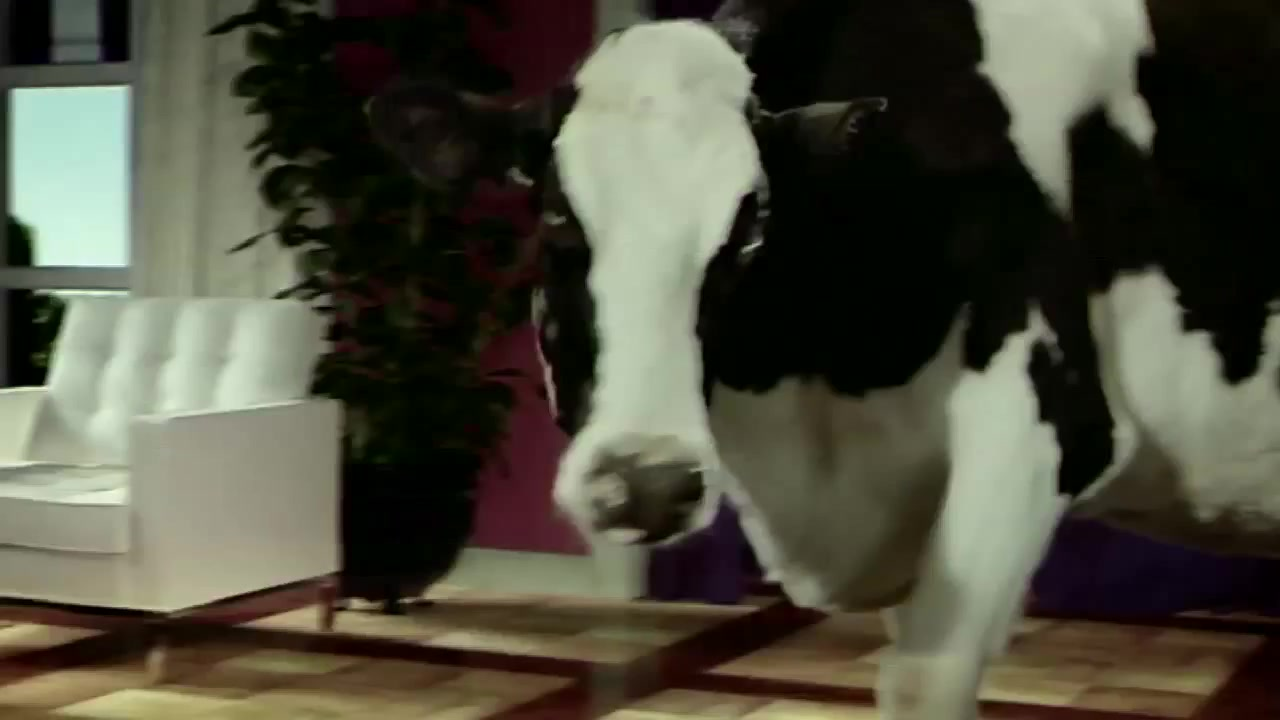cow: (366, 1, 1280, 720)
